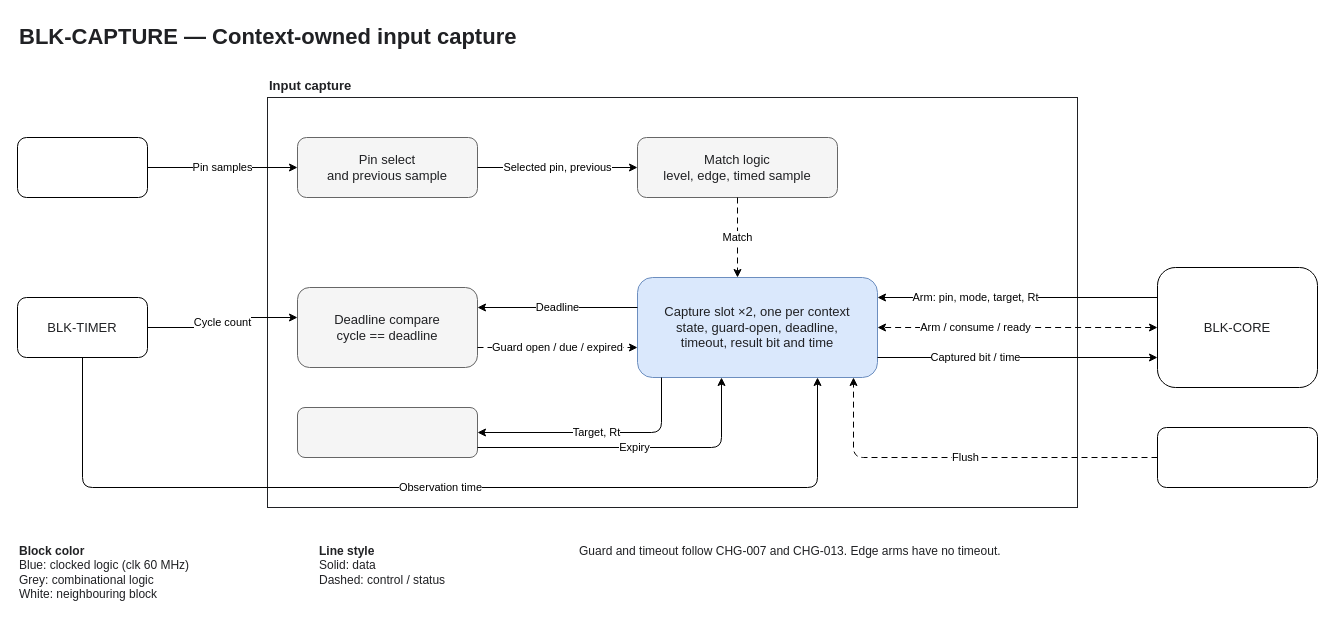
This 1335x624 diagram has some shape labels left out. Here are the shapes that lost their labels. From the top down, the centre of each, then its label:
[82,167]: BLK-PADS
[387,432]: Timeout reload target + Rt × 64
[1237,457]: BLK-HOST run control
